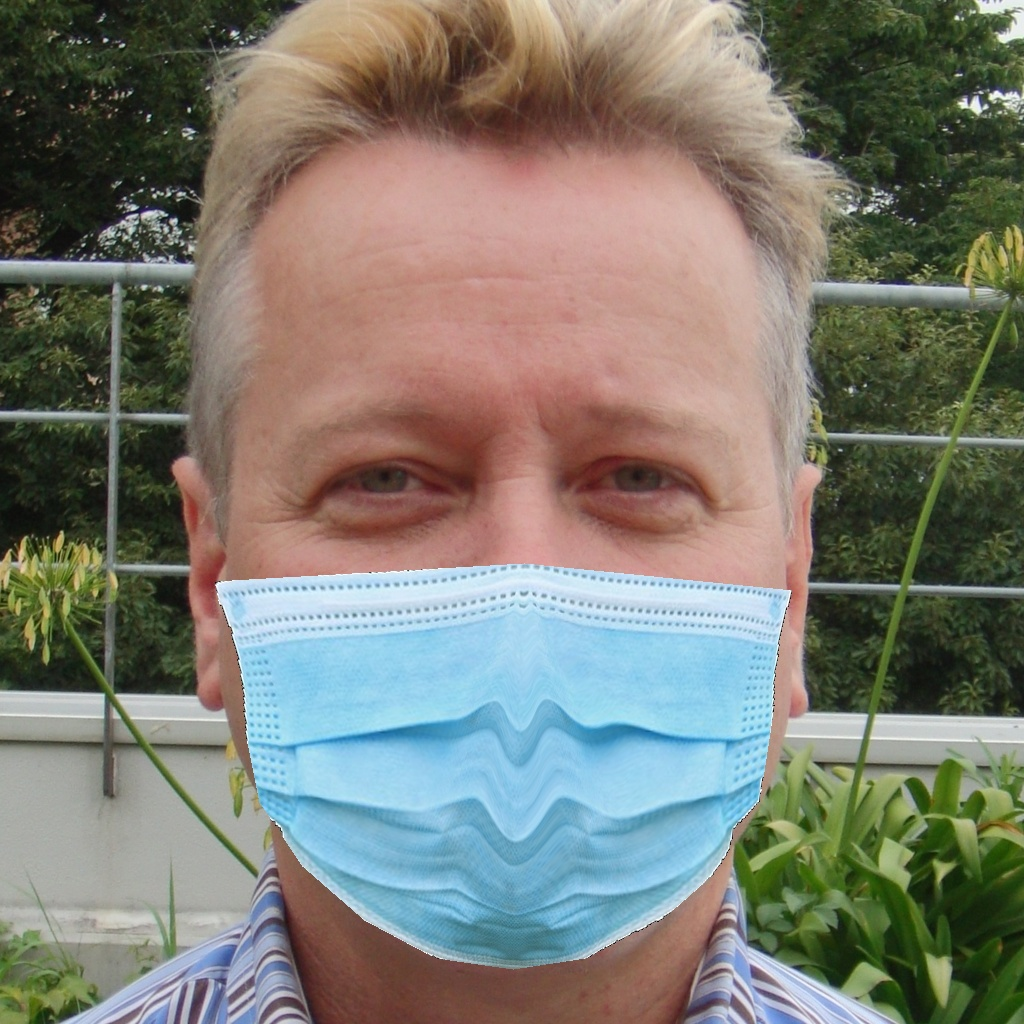Mask: (207, 336, 807, 970)
